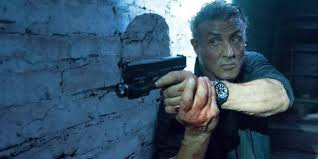gun: (112, 54, 189, 101)
